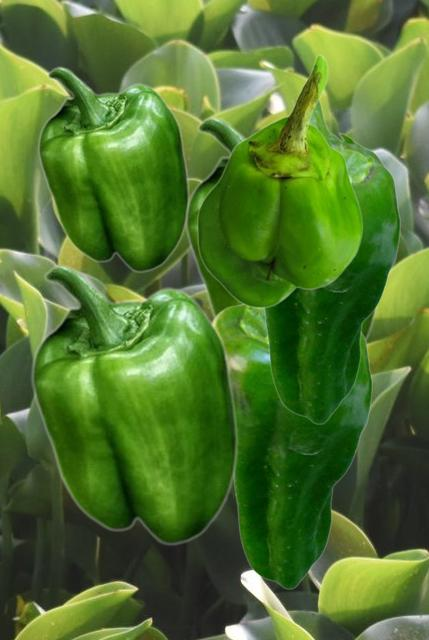bell_pepper: (30, 264, 238, 545), (212, 304, 372, 589), (263, 100, 400, 424), (184, 116, 378, 341), (196, 53, 362, 307), (37, 66, 189, 272)
